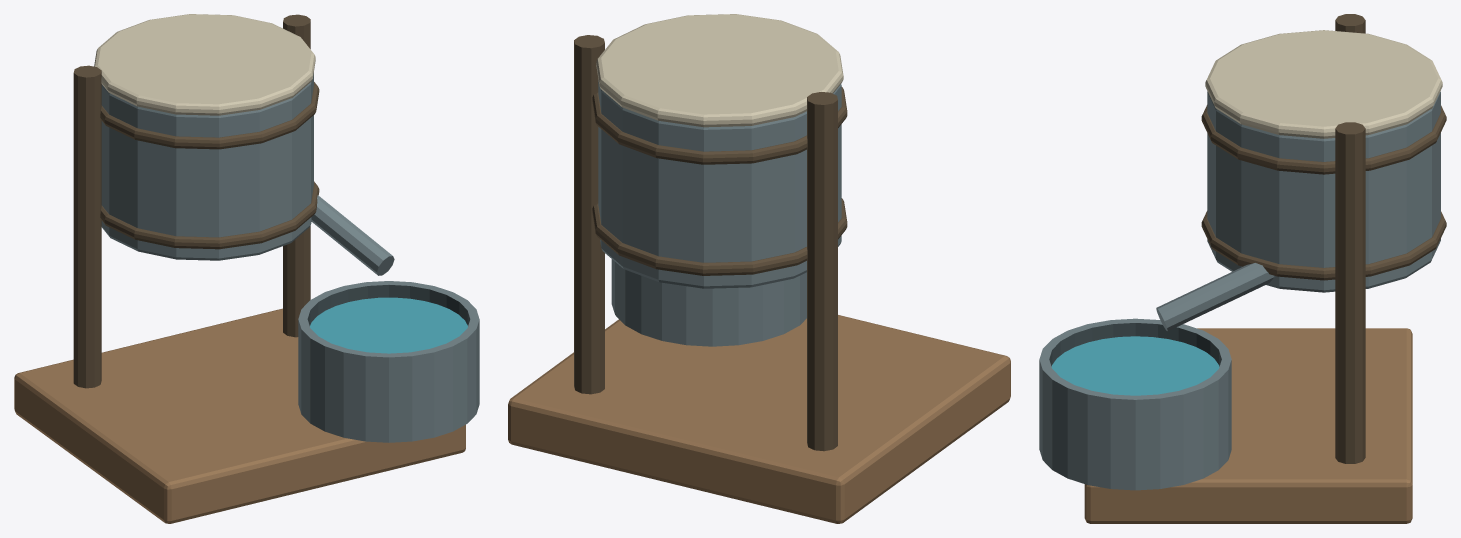
Rendered from filter.glb.
3 views of the same model, side by side, from view 1: azimuth 30°, elevation 25°; view 2: azimuth 150°, elevation 25°; view 3: azimuth 270°, elevation 25° (orthographic). The views are drawn at different scales.
Visible parts, largest first — view 1: GEO-filter-54.002, GEO-filter-176.002, GEO-Filter-OpenBucket.001, GEO-filter-188.002, GEO-filter-82.003, GEO-Filter-WaterSurface; view 2: GEO-filter-54.002, GEO-filter-176.002, GEO-filter-188.002, GEO-filter-82.003, GEO-Filter-OpenBucket.001; view 3: GEO-filter-54.002, GEO-filter-176.002, GEO-Filter-OpenBucket.001, GEO-filter-82.003, GEO-filter-188.002, GEO-Filter-WaterSurface.
Boxes of the visible parts, x1,y1,x2,y2 form: GEO-filter-54.002: (14,308,465,523); GEO-filter-176.002: (101,72,394,275); GEO-Filter-OpenBucket.001: (298,281,479,442); GEO-filter-188.002: (73,14,319,388); GEO-filter-82.003: (94,14,315,115); GEO-Filter-WaterSurface: (310,297,467,353); GEO-filter-54.002: (508,315,1010,523); GEO-filter-176.002: (598,80,841,288); GEO-filter-188.002: (574,35,847,451); GEO-filter-82.003: (596,14,843,127); GEO-Filter-OpenBucket.001: (611,259,806,346); GEO-filter-54.002: (1084,328,1412,523); GEO-filter-176.002: (1156,91,1440,331); GEO-Filter-OpenBucket.001: (1039,318,1231,490); GEO-filter-82.003: (1205,30,1442,138); GEO-filter-188.002: (1201,14,1446,463); GEO-Filter-WaterSurface: (1051,336,1219,395).
Size of the model in its own units: 1.06 by 1.09 by 1.08.
